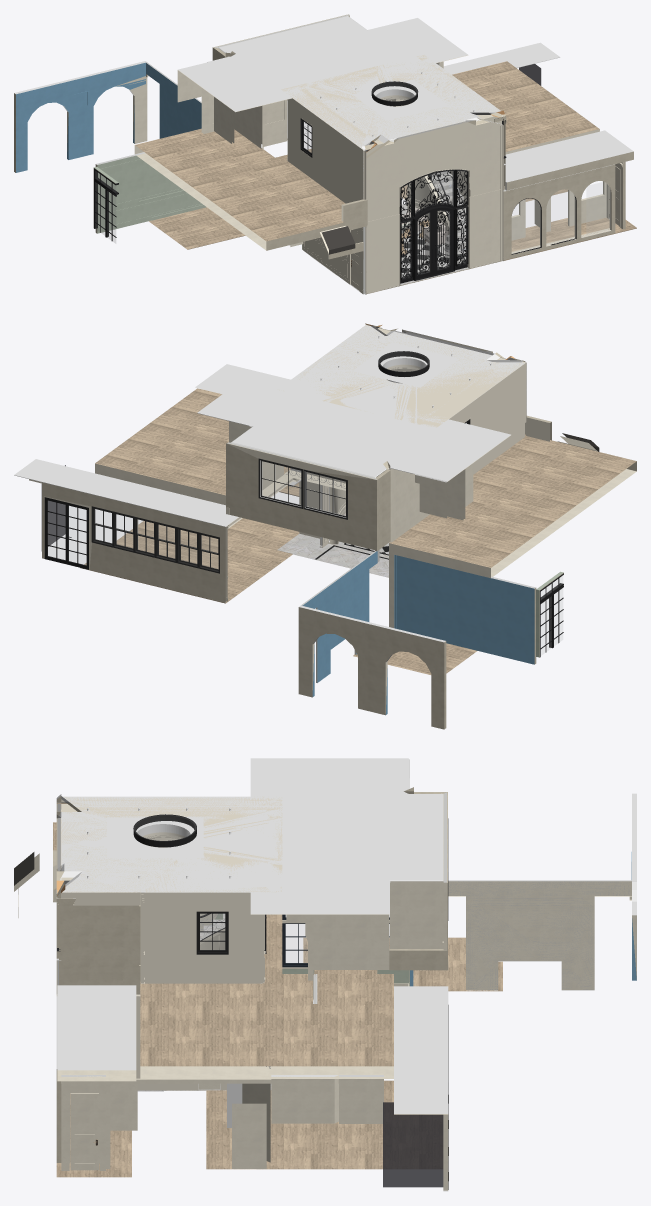
File: entry-5417efb6b29a.glb
3 views of the same model, one above another, from view 1: azimuth 30°, elevation 25°; view 2: azimuth 150°, elevation 25°; view 3: azimuth 270°, elevation 25° (orthographic). The views are drawn at different scales.
Visible parts, largest first — view 1: entry-look-2575515a05775d9e, entry-look-9d91b47435c6fb33, entry-9d91b47435c6fb33, entry-4edf3a9420c06709, entry-look-969b861f9850351e, entry-e8793759323e04f0, entry-9ca48b730e5de4b2, entry-look-b19b106fc304963c, entry-746250f96522f643, entry-look-dbd60ee5c3733ed6, entry-look-c9e78b9ec1bb39cd, entry-785988ccf932ddd5 (+34 smaller); view 2: entry-look-2575515a05775d9e, entry-look-9d91b47435c6fb33, entry-look-b19b106fc304963c, entry-9d91b47435c6fb33, entry-look-969b861f9850351e, entry-look-245f595ae2832e16, entry-look-3b0077416469e01b, entry-look-bfb9fa537cd11d1d, entry-e8793759323e04f0, entry-look-9a0e9ee9b2a451d7, entry-746250f96522f643, entry-look-3e6709f91b43c3bf (+19 smaller); view 3: entry-look-2575515a05775d9e, entry-look-9d91b47435c6fb33, entry-9d91b47435c6fb33, entry-look-3e6709f91b43c3bf, entry-look-3b0077416469e01b, entry-c51ecd664a3b22a3, entry-look-dbd60ee5c3733ed6, entry-e8793759323e04f0, entry-look-9a0e9ee9b2a451d7, entry-62353aa10fc57f23, entry-look-cbd4bf73d9724a66, entry-look-55ff1dfd7b659ec1 (+24 smaller).
Part boxes in pixels (x1,y1,x2,y2): entry-look-2575515a05775d9e: [134, 61, 599, 250]; entry-look-9d91b47435c6fb33: [178, 16, 468, 112]; entry-9d91b47435c6fb33: [282, 54, 500, 149]; entry-4edf3a9420c06709: [365, 120, 503, 221]; entry-look-969b861f9850351e: [14, 61, 147, 172]; entry-e8793759323e04f0: [281, 55, 499, 149]; entry-9ca48b730e5de4b2: [365, 189, 503, 293]; entry-look-b19b106fc304963c: [95, 152, 202, 233]; entry-746250f96522f643: [287, 98, 361, 203]; entry-look-dbd60ee5c3733ed6: [505, 130, 633, 190]; entry-look-c9e78b9ec1bb39cd: [503, 164, 615, 260]; entry-785988ccf932ddd5: [366, 118, 503, 220]; entry-look-2575515a05775d9e: [95, 388, 636, 578]; entry-look-9d91b47435c6fb33: [197, 371, 510, 481]; entry-look-b19b106fc304963c: [397, 555, 536, 664]; entry-9d91b47435c6fb33: [277, 325, 525, 428]; entry-look-969b861f9850351e: [298, 605, 446, 729]; entry-look-245f595ae2832e16: [226, 442, 377, 551]; entry-look-3b0077416469e01b: [80, 518, 476, 674]; entry-look-bfb9fa537cd11d1d: [42, 482, 227, 602]; entry-e8793759323e04f0: [279, 325, 525, 427]; entry-look-9a0e9ee9b2a451d7: [14, 459, 238, 526]; entry-746250f96522f643: [449, 364, 524, 474]; entry-look-3e6709f91b43c3bf: [302, 551, 377, 682]; entry-look-2575515a05775d9e: [53, 822, 393, 1078]; entry-look-9d91b47435c6fb33: [250, 758, 442, 914]; entry-9d91b47435c6fb33: [61, 796, 282, 892]; entry-look-3e6709f91b43c3bf: [448, 880, 631, 989]; entry-look-3b0077416469e01b: [206, 937, 502, 1169]; entry-c51ecd664a3b22a3: [145, 892, 264, 983]; entry-look-dbd60ee5c3733ed6: [57, 985, 136, 1081]; entry-e8793759323e04f0: [58, 794, 282, 892]; entry-look-9a0e9ee9b2a451d7: [394, 986, 448, 1114]; entry-62353aa10fc57f23: [71, 892, 140, 996]; entry-look-cbd4bf73d9724a66: [383, 1102, 443, 1187]; entry-look-55ff1dfd7b659ec1: [448, 880, 631, 990].
Bounding box in the file's own units: 21.07 × 7.02 × 18.
Materials: 65 (12 with a texture image).
